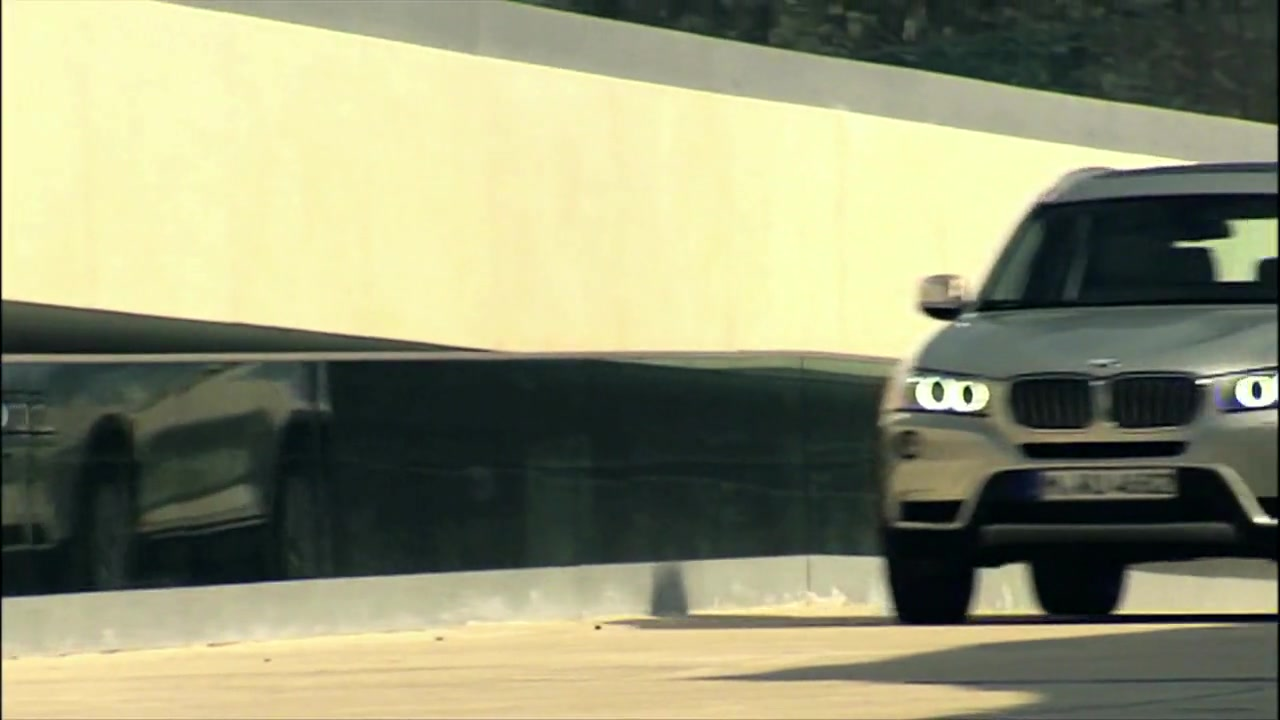car: (871, 158, 1280, 638)
